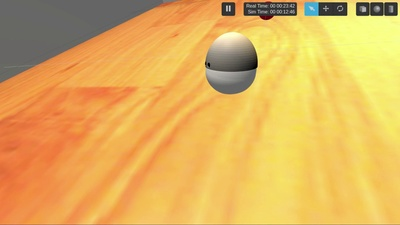mira_robot: (205, 31, 258, 95)
